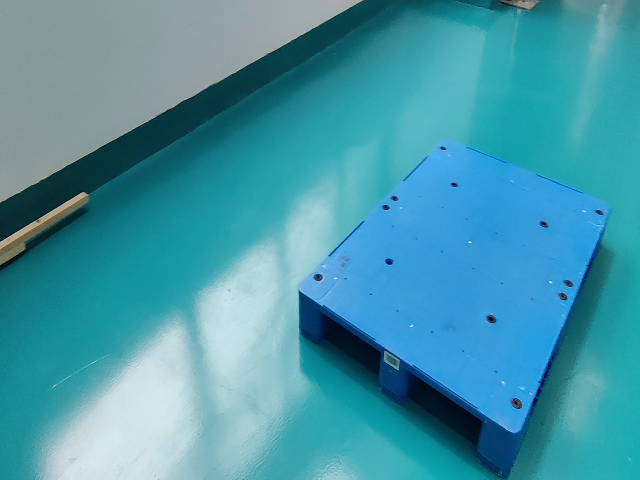block: (474, 412, 526, 479), (379, 346, 406, 402), (296, 288, 323, 342)
front: (298, 289, 514, 477)
hole pallet: (403, 370, 481, 450), (319, 310, 379, 386)
